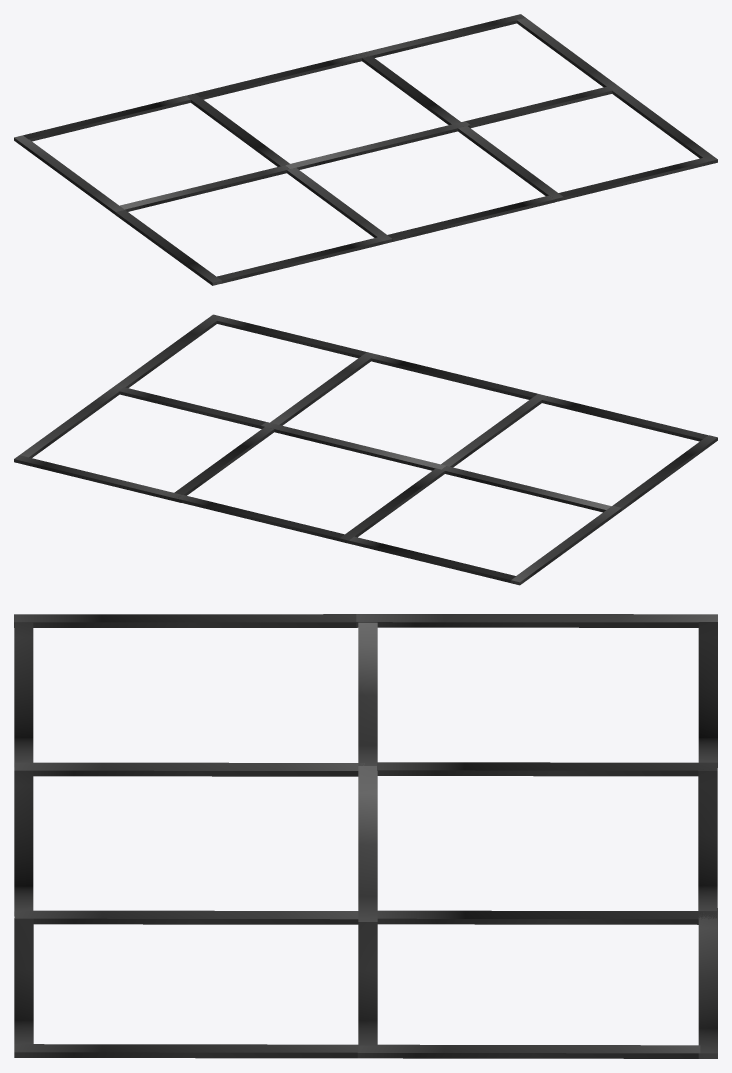
Rendered from Entorno_teusaquillo.fbx.
3 renders of one model, top to bottom at view 1: azimuth 30°, elevation 25°; view 2: azimuth 150°, elevation 25°; view 3: azimuth 270°, elevation 25°, orthographic. The views are drawn at different scales.
Visible parts, largest first — view 1: Cube.002, Cube.014, Cube.009, Cube.011, Cube.008, Cube.010, Cube.012, Cube.013, Cube.001, Cube.003, Cube.015, Cube.016 (+5 smaller); view 2: Cube.002, Cube.012, Cube.014, Cube.009, Cube.010, Cube.011, Cube.008, Cube.001, Cube.013, Cube.003, Cube.005, Cube.015 (+5 smaller); view 3: Cube.016, Cube.004, Cube.006, Cube.001, Cube.005, Cube.007, Cube.017, Cube.015, Cube.002, Cube.014, Cube.012, Cube.009 (+5 smaller).
Part boxes in pixels (x1,y1,x2,y2): Cube.002: [285, 121, 470, 169]; Cube.014: [120, 165, 289, 211]; Cube.009: [23, 95, 190, 141]; Cube.011: [388, 195, 554, 241]; Cube.008: [217, 237, 383, 283]; Cube.010: [195, 54, 361, 99]; Cube.012: [357, 14, 525, 57]; Cube.013: [558, 158, 709, 200]; Cube.001: [14, 135, 124, 214]; Cube.003: [465, 86, 612, 128]; Cube.015: [115, 210, 221, 285]; Cube.016: [612, 88, 717, 164]; Cube.002: [261, 422, 445, 470]; Cube.012: [14, 455, 182, 502]; Cube.014: [442, 466, 611, 512]; Cube.009: [349, 536, 516, 582]; Cube.010: [178, 495, 344, 541]; Cube.011: [371, 354, 537, 399]; Cube.008: [542, 396, 707, 441]; Cube.001: [510, 505, 621, 585]; Cube.013: [217, 317, 366, 358]; Cube.003: [119, 387, 265, 428]; Cube.005: [339, 468, 445, 543]; Cube.015: [613, 435, 717, 510]; Cube.016: [14, 1044, 358, 1058]; Cube.004: [14, 762, 364, 776]; Cube.006: [14, 910, 358, 924]; Cube.001: [356, 614, 717, 627]; Cube.005: [377, 762, 717, 776]; Cube.007: [357, 1044, 700, 1058]; Cube.017: [377, 910, 716, 924]; Cube.015: [14, 614, 357, 627]; Cube.002: [358, 766, 377, 921]; Cube.014: [358, 622, 377, 765]; Cube.012: [698, 908, 717, 1058]; Cube.009: [698, 622, 717, 767].
Bounding box in the file's own units: 33741 × 216 × 22869.
Materials: 1 (1 with a texture image).
